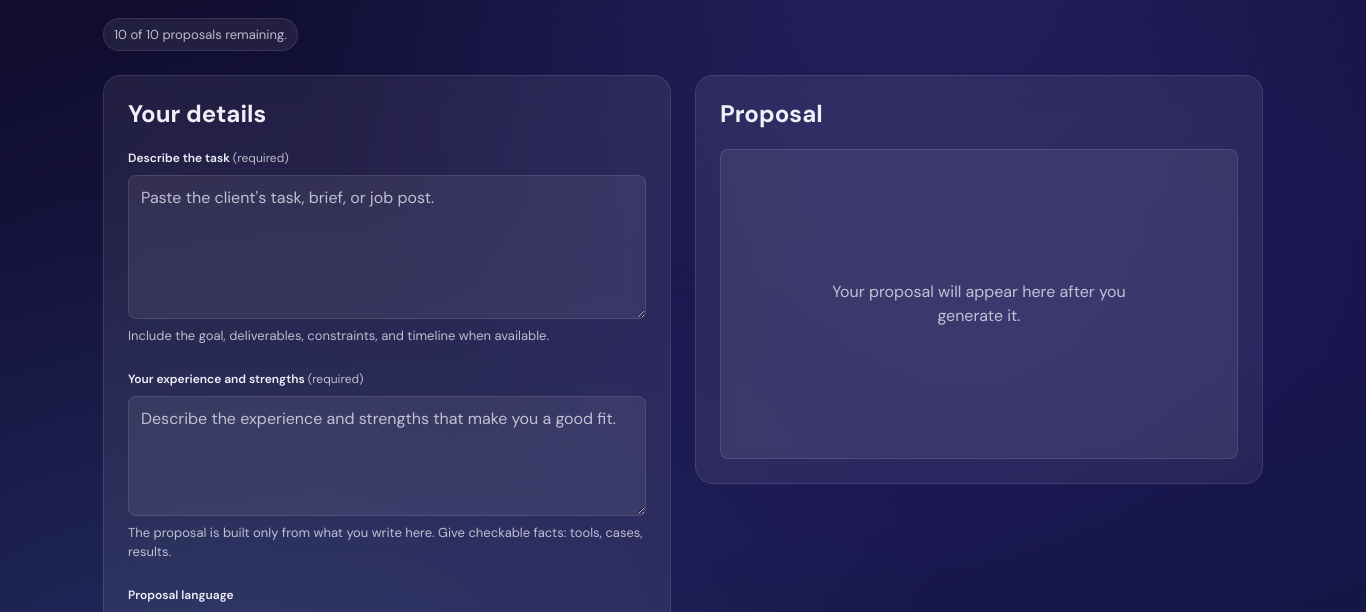
Test case: ProposalAI product definition › maps the default warm style to the snake_case input schema and omits language
In the text box labelled "Describe the task (required)": (387, 247) [128,175,646,319], type "Build a landing page."
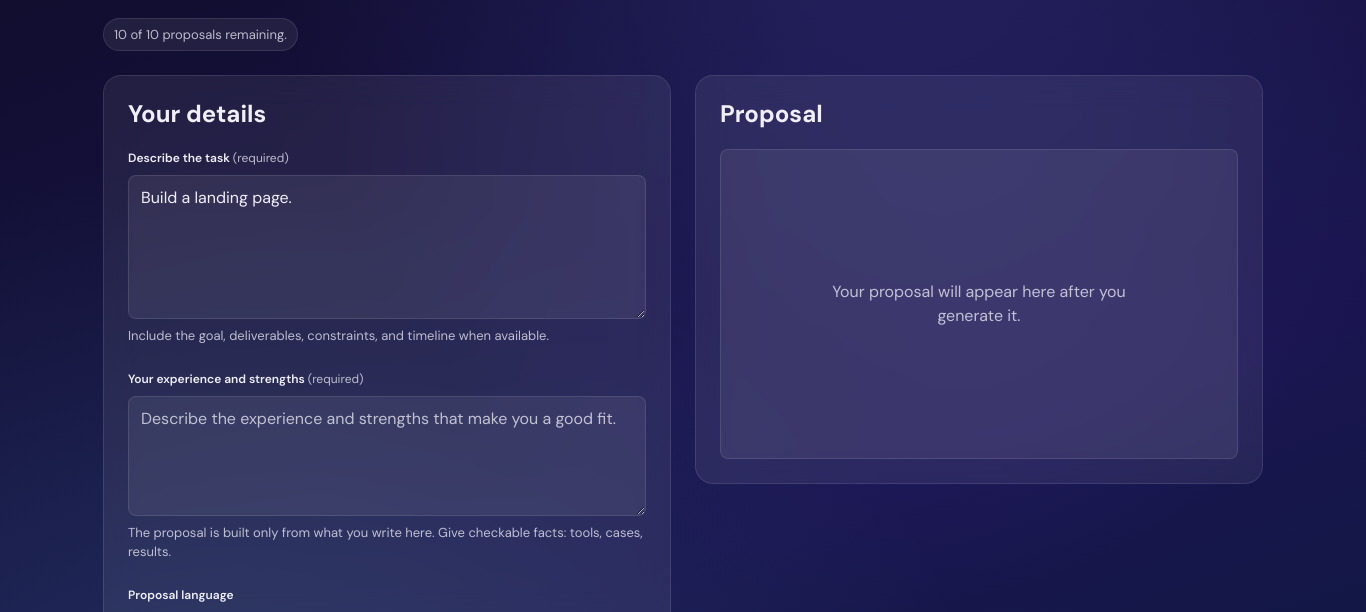
Replace the text in the text box labelled "Your experience and strengths (required)" with "Frontend freelancer.": (387, 456) [128,396,646,516]
(page scrolled)
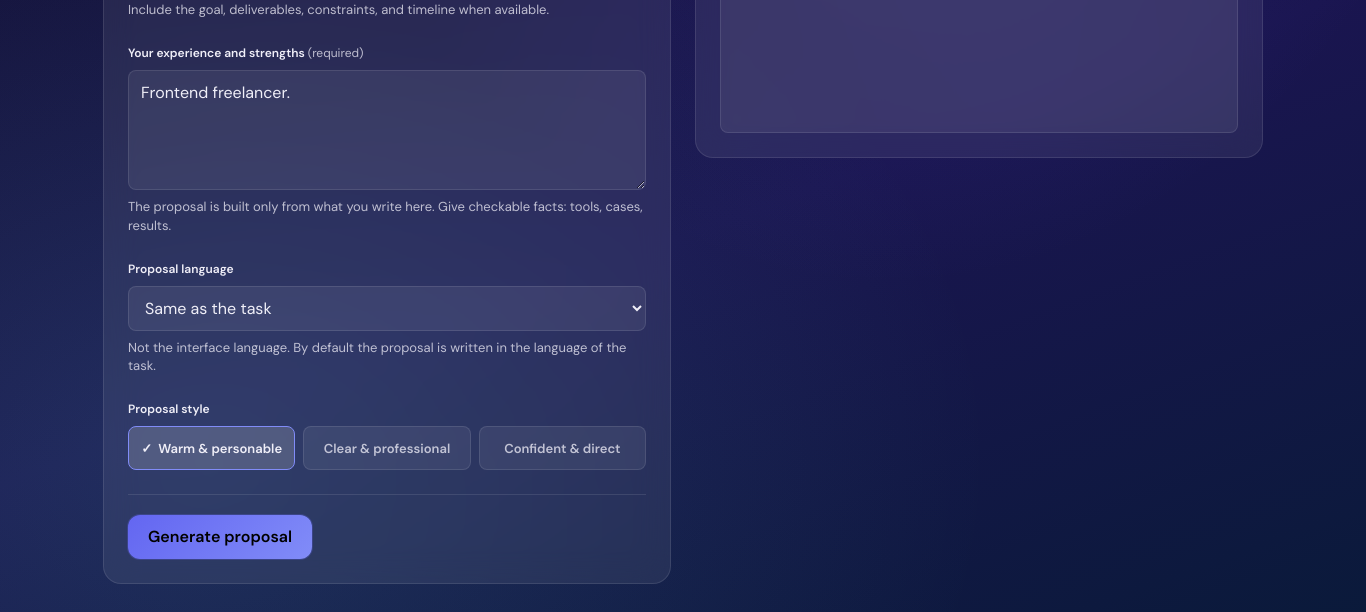
Click the button "Generate proposal": (220, 537) [128,515,312,559]
(page scrolled)
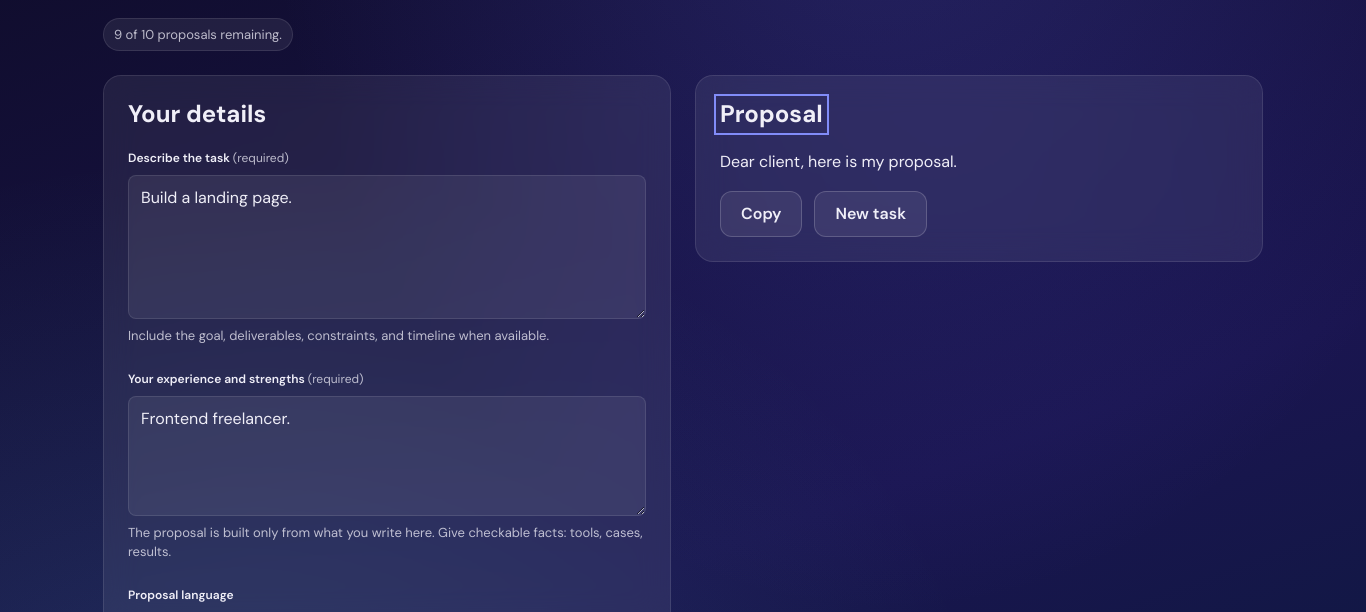
Check: the text "Dear client, here is my proposal." is shown, box [720,149,957,175]
